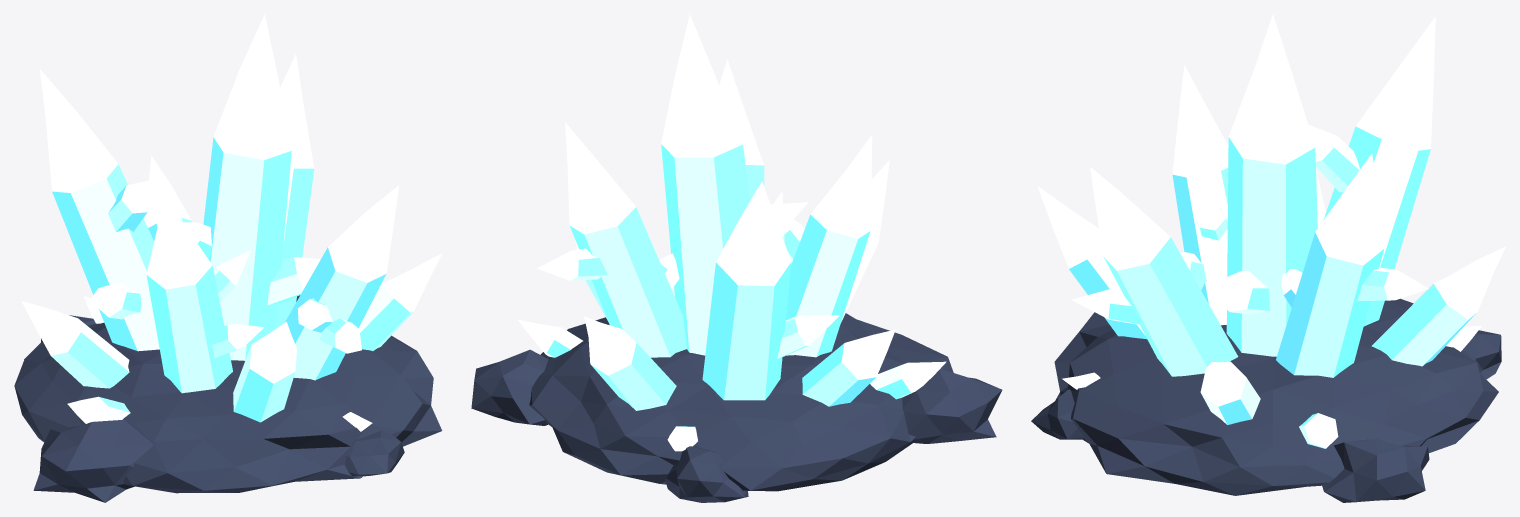
Rendered from res_fuel_crystal.glb.
3 views of the same model, side by side, from view 1: azimuth 30°, elevation 25°; view 2: azimuth 150°, elevation 25°; view 3: azimuth 270°, elevation 25° (orthographic). The views are drawn at different scales.
Visible parts, largest first — view 1: res_fuel_crystal; view 2: res_fuel_crystal; view 3: res_fuel_crystal.
Part boxes in pixels (x1=…): res_fuel_crystal: x1=14, y1=14, x2=442, y2=502; res_fuel_crystal: x1=471, y1=14, x2=1002, y2=502; res_fuel_crystal: x1=1031, y1=14, x2=1505, y2=502.
Size of the model in its own units: 1.61 by 1.37 by 1.43.
